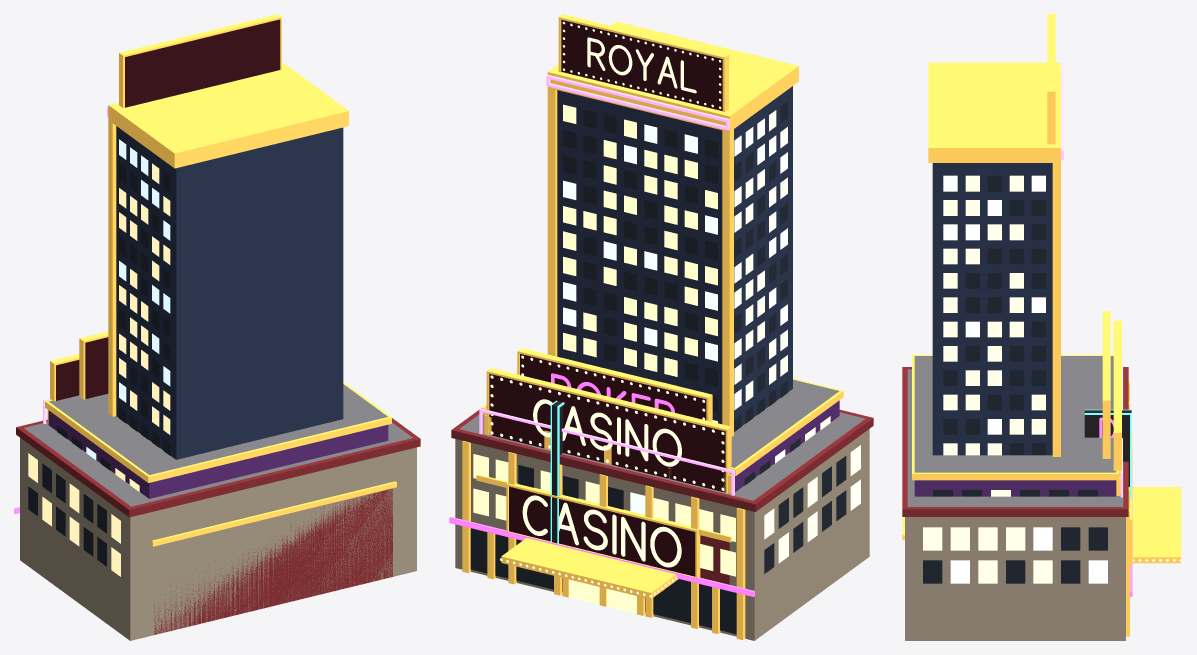
The model's file is vegas_buildings.glb.
3 renders of one model, left to right at view 1: azimuth 30°, elevation 25°; view 2: azimuth 150°, elevation 25°; view 3: azimuth 270°, elevation 25°, orthographic. The views are drawn at different scales.
Parts seen in each view (by area): view 1: vegas_casino_b, vegas_casino_a, vegas_casino_c; view 2: vegas_casino_b, vegas_casino_a, vegas_casino_c, vegas_club_b; view 3: vegas_casino_b, vegas_casino_a, vegas_casino_c, vegas_club_b.
Part boxes in pixels (x1,y1,x2,y2): vegas_casino_b: (107, 14, 396, 634); vegas_casino_a: (14, 354, 420, 640); vegas_casino_c: (43, 331, 391, 498); vegas_casino_b: (476, 14, 798, 633); vegas_casino_a: (449, 368, 873, 640); vegas_casino_c: (479, 348, 843, 582); vegas_club_b: (550, 400, 564, 543); vegas_casino_b: (902, 14, 1174, 565); vegas_casino_a: (902, 320, 1182, 640); vegas_casino_c: (912, 311, 1157, 554); vegas_club_b: (1084, 409, 1131, 499).
Size of the model in its own units: 2.44 by 4.14 by 2.03.
